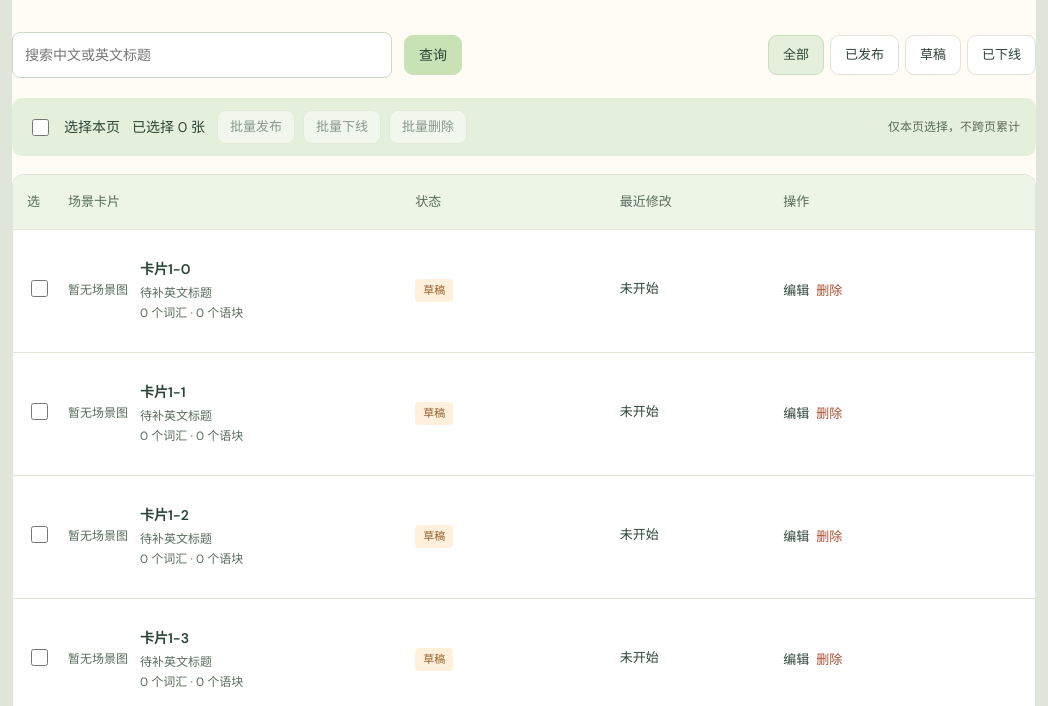
requests server pages of ten, clears selection on paging and shows real bounds
This screenshot has width=1048, height=706.
Click the checkbox named "选择本页卡片" at (40, 127), box [32,119,49,136]
(page scrolled)
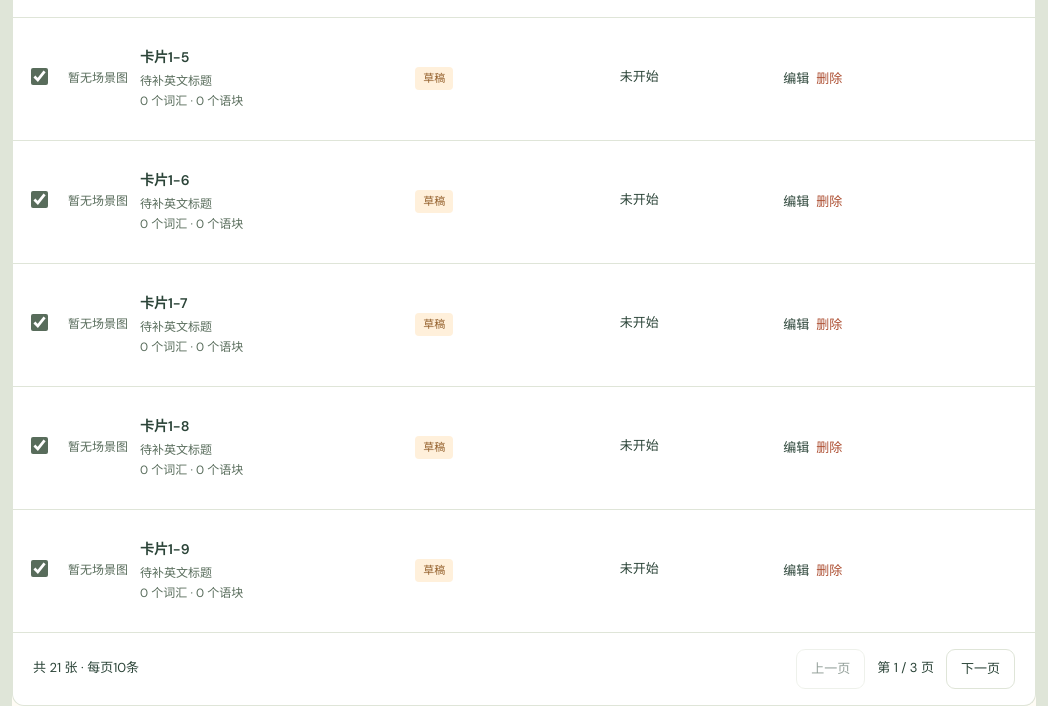
Click the button "下一页" at (980, 669), box [946,649,1015,689]
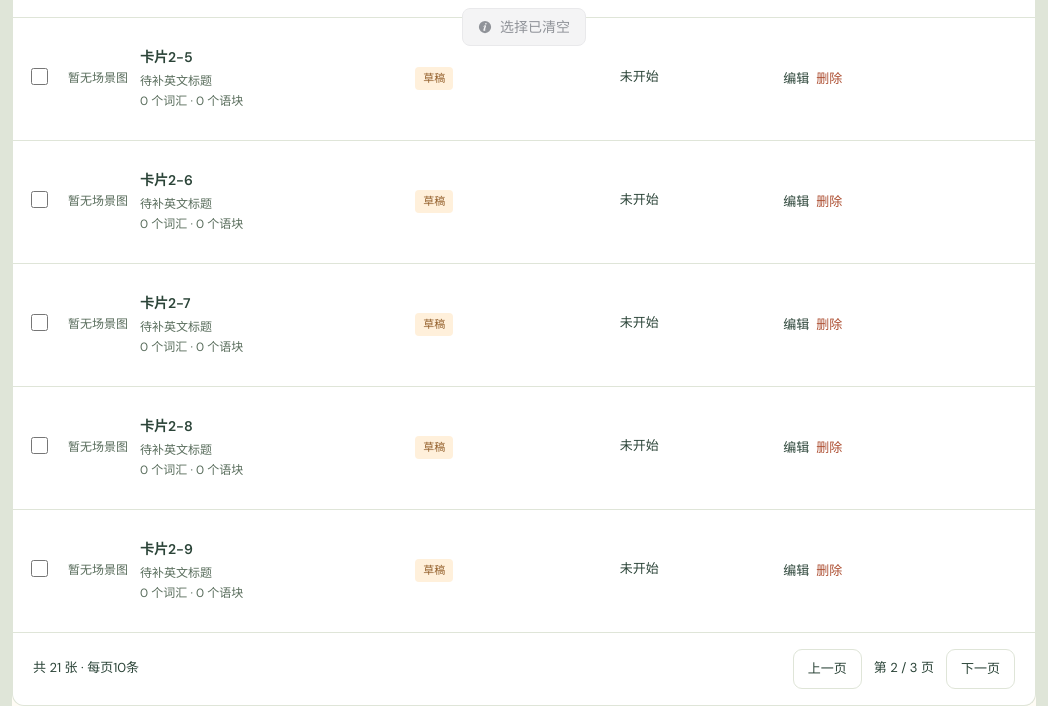
Expected: the text "第 2 / 3 页" is shown, [874,658,934,680]
